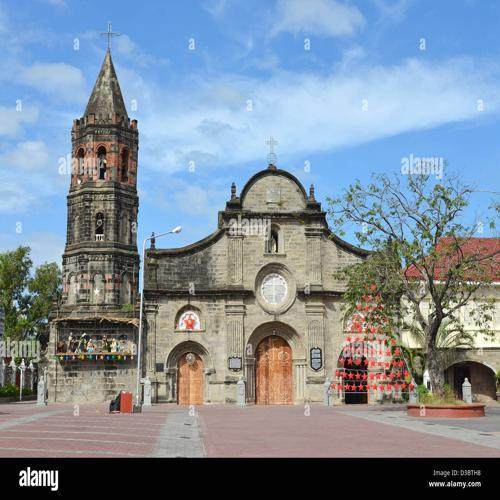Barasoain Church: (47, 23, 401, 418)
